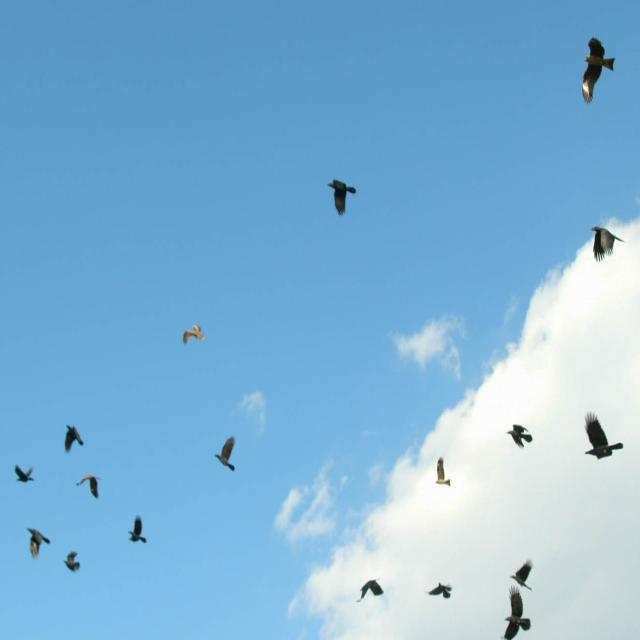bird: (580, 38, 618, 106), (582, 412, 626, 461), (590, 227, 626, 266), (326, 179, 358, 218), (500, 604, 532, 640), (28, 527, 54, 563), (508, 558, 535, 592), (215, 437, 238, 474), (506, 422, 534, 452), (357, 576, 386, 603), (424, 580, 454, 603), (432, 452, 451, 488), (64, 423, 86, 454), (76, 473, 100, 501), (128, 516, 146, 546), (182, 323, 206, 345), (14, 463, 34, 485), (64, 550, 81, 574)
